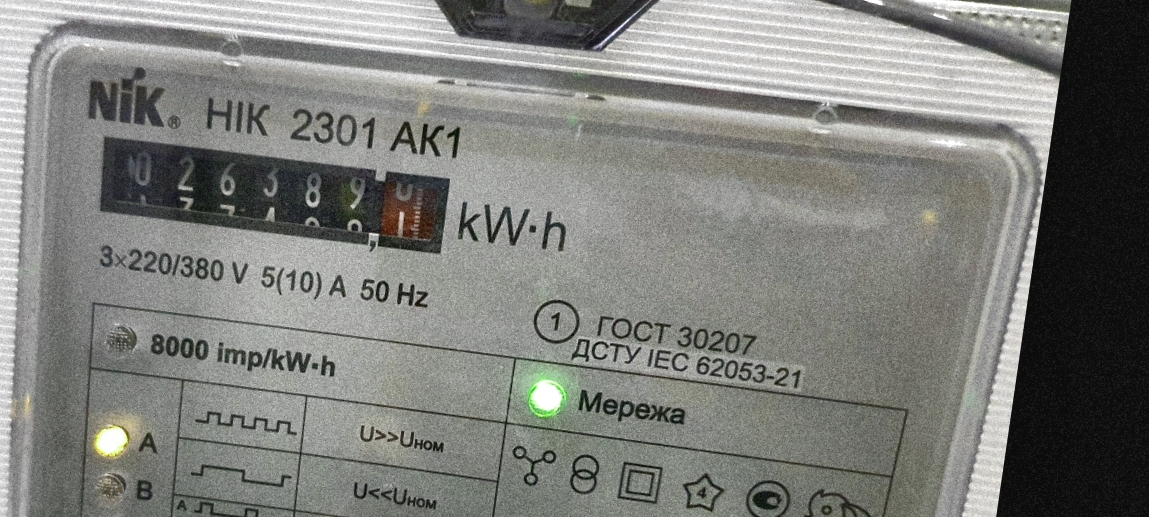0: (128, 146, 157, 188), (393, 179, 414, 203)
1: (392, 206, 409, 239)
2: (172, 152, 201, 194)
3: (259, 163, 281, 200)
6: (216, 157, 239, 198)
8: (301, 169, 327, 210)
9: (344, 174, 367, 210)
screen: (78, 115, 468, 273)
